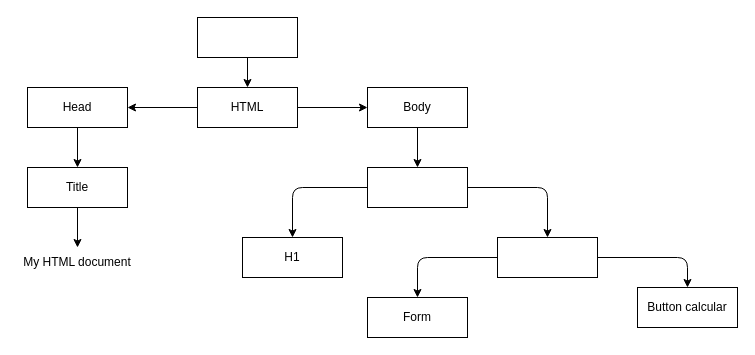
Some shapes in this 755 by 355 pixel diagram are drawn without their labels. The shapes that lost their labels are listed below. From the top down, each one's centre as x and y in pixels, then its label:
At (x=247, y=37): "Document".
At (x=417, y=187): "DIV container".
At (x=547, y=257): "DIV peso-altura-button".
